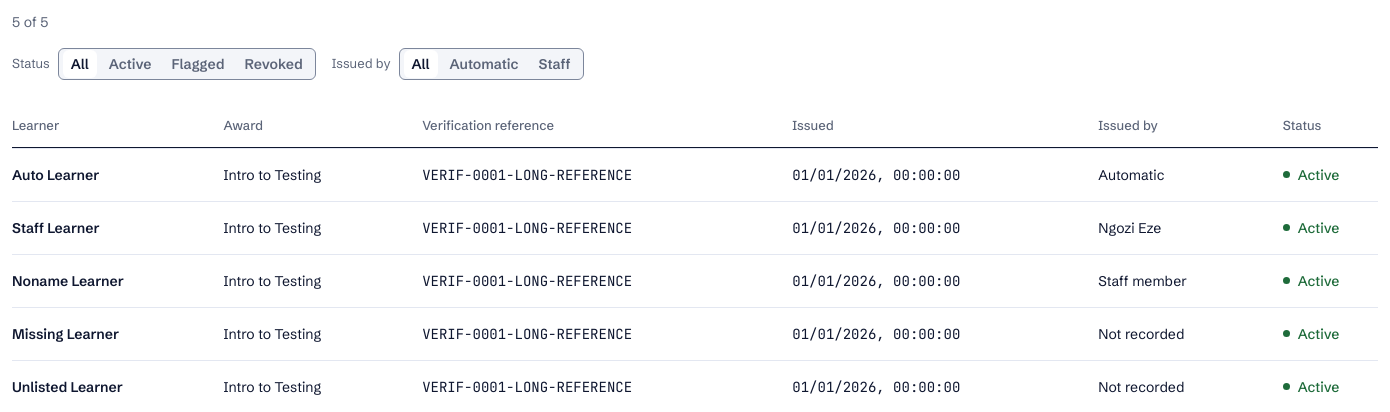
IssuedCertificatesTable — issuance source (UAT test 8) › the Staff filter shows only staff-issued rows (including nameless staff, excluding not-recorded)
Click the button "Staff" at (554, 64), box [530, 50, 578, 78]
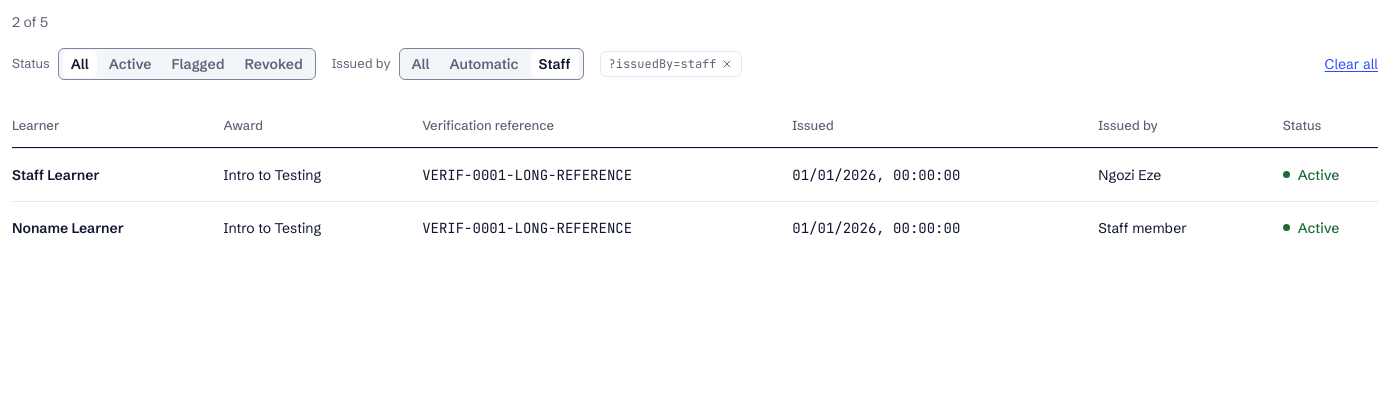
Check: the link "Auto Learner" is gone
Check: the link "Missing Learner" is gone
Check: the link "Unlisted Learner" is gone
